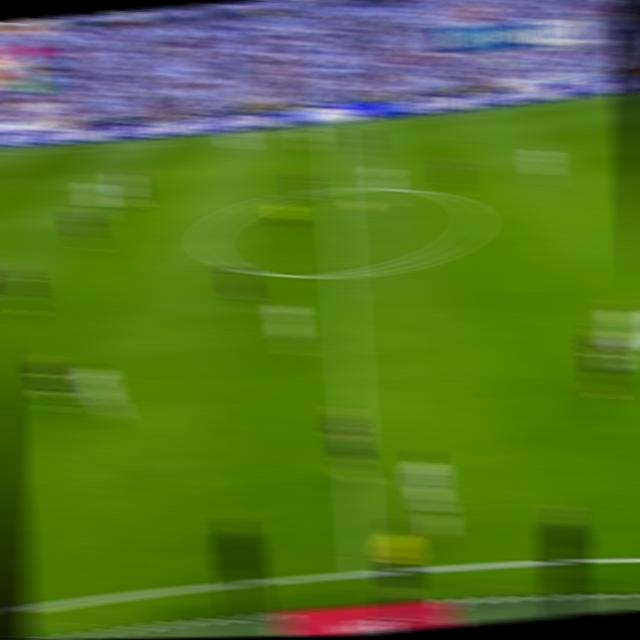halfcircle_bottom: (328, 257, 356, 290)
halfcircle_top: (324, 175, 351, 203)
midline_bottom_intersection: (348, 550, 378, 580)
midline_top_intersection: (322, 120, 346, 137)
